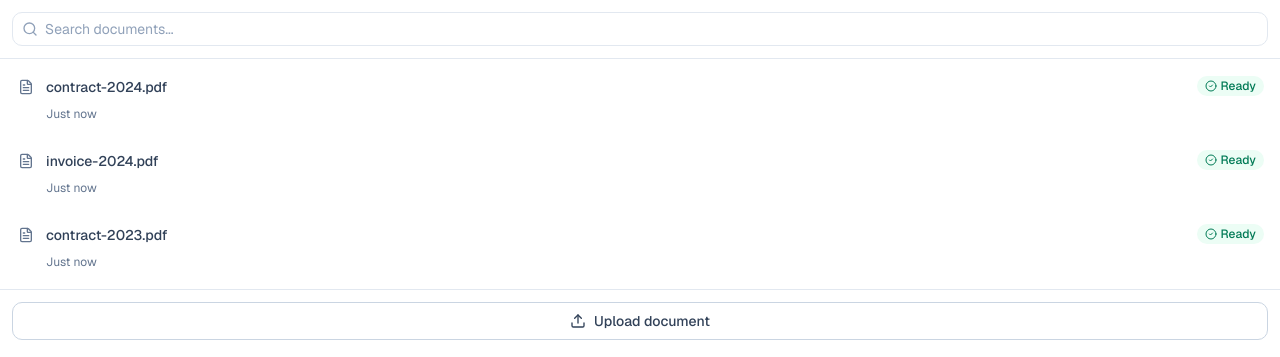
Scenario: DocumentList › AC-4.3.6: Search/Filter › filters documents by filename match
The image size is (1280, 357).
In the field with placeholder "Search documents...": (640, 29) [12,12,1268,46], type "contract"
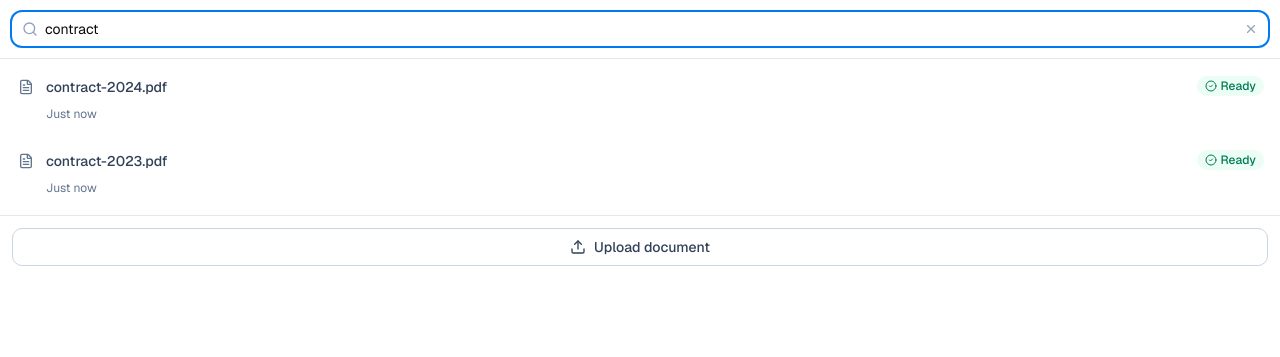
Expected: the text "contract-2024.pdf" is shown, [46,78,167,96]
Expected: the button "invoice-2024.pdf" is gone
